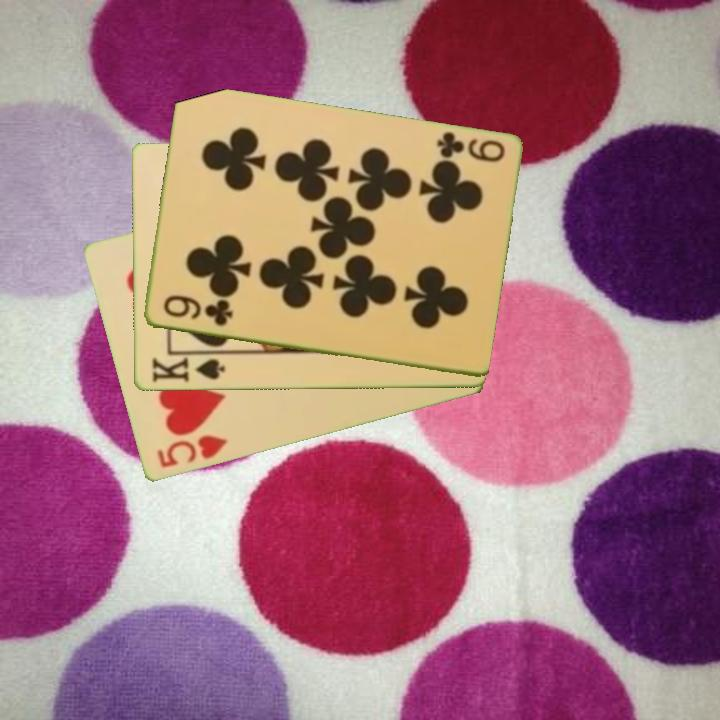5h: (153, 432, 231, 471)
9c: (432, 128, 507, 166), (159, 292, 236, 329)
Ks: (148, 352, 227, 385)
